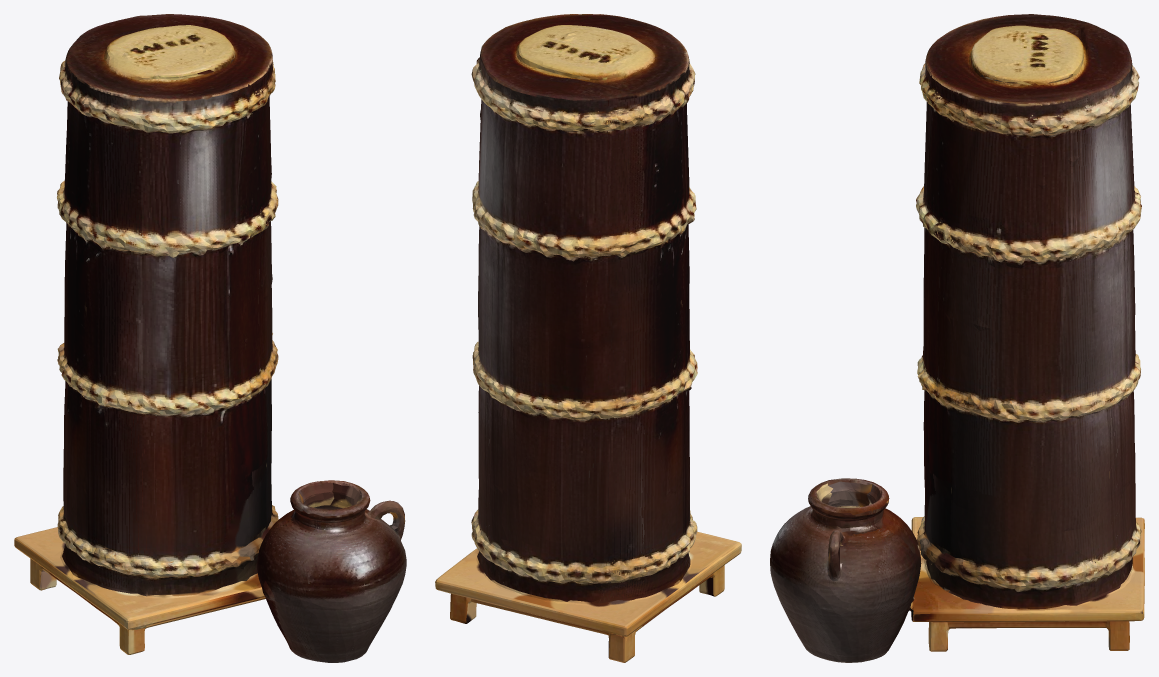
Rendered from traveler_env_coast_scorpion_shutai_sake_store_00001_.glb.
3 views of the same model, side by side, from view 1: azimuth 30°, elevation 25°; view 2: azimuth 150°, elevation 25°; view 3: azimuth 270°, elevation 25° (orthographic).
Parts seen in each view (by area): view 1: temp_mesh.ply; view 2: temp_mesh.ply; view 3: temp_mesh.ply.
Boxes of the visible parts, bbox=[...] form: temp_mesh.ply: bbox=[14, 14, 406, 662]; temp_mesh.ply: bbox=[435, 14, 741, 662]; temp_mesh.ply: bbox=[770, 14, 1144, 662].
Size of the model in its own units: 0.8961 by 1.97 by 1.2.
Materials: 1 (1 with a texture image).
